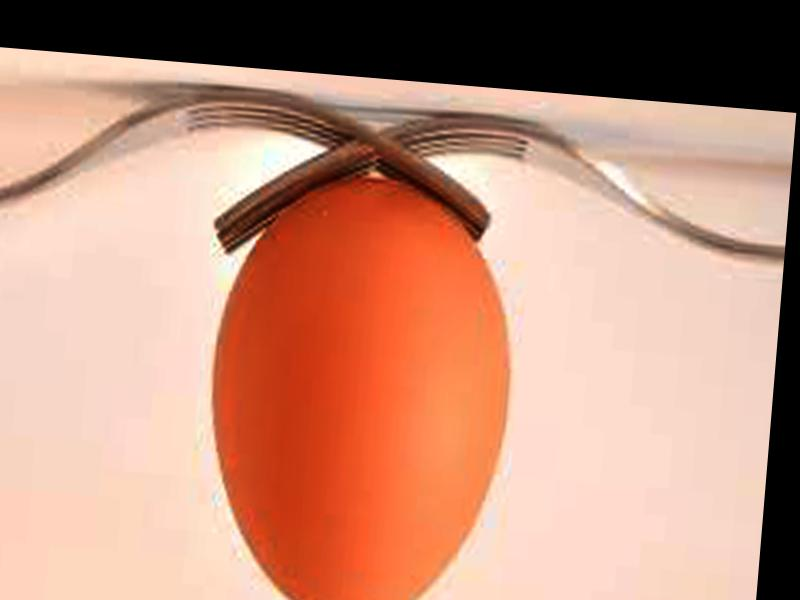Eggs: (194, 166, 525, 600)
